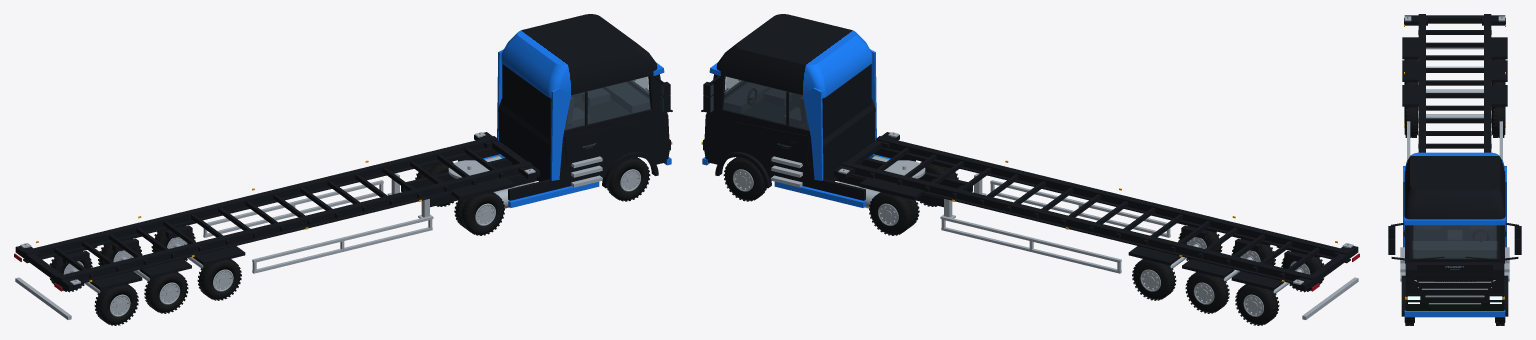
File: T01-truck.glb
3 views of the same model, side by side, from view 1: azimuth 30°, elevation 25°; view 2: azimuth 150°, elevation 25°; view 3: azimuth 270°, elevation 25° (orthographic). The views are drawn at different scales.
Parts seen in each view (by area): view 1: rounded_high_roof, contoured_closed_lower_cab, trailer_Ibeam_flange_1_0.195, trailer_Ibeam_flange_-1_0.195, deep_side_glass_1, trailer_Ibeam_web_1, trailer_Ibeam_web_-1, rear_cab_wall, sculpted_door_panel_1, trailer_Ibeam_flange_1_-0.015, blue_rear_door_pillar_1, trailer_Ibeam_flange_-1_-0.015 (+21 smaller); view 2: rounded_high_roof, contoured_closed_lower_cab, trailer_Ibeam_flange_-1_0.195, trailer_Ibeam_flange_1_0.195, deep_side_glass_-1, trailer_Ibeam_web_-1, trailer_Ibeam_web_1, rear_cab_wall, sculpted_door_panel_-1, trailer_Ibeam_flange_-1_-0.015, blue_rear_door_pillar_-1, trailer_Ibeam_flange_1_-0.015 (+21 smaller); view 3: rounded_high_roof, continuous_front_glass, contoured_closed_lower_cab, sculpted_grille_aperture, dashboard, trailer_Ibeam_flange_-1_0.195, trailer_Ibeam_flange_1_0.195, front_label_panel, blue_roof_visor, blue_front_bumper, trailer_end_bolster_-11.185, trailer_fender_-1_2 (+44 smaller).
Boxes of the visible parts, x1,y1,x2,y2 form: rounded_high_roof: (501,14,657,98); contoured_closed_lower_cab: (498,82,669,181); trailer_Ibeam_flange_1_0.195: (57,161,532,280); trailer_Ibeam_flange_-1_0.195: (23,136,497,254); deep_side_glass_1: (565,77,650,129); trailer_Ibeam_web_1: (59,169,520,285); trailer_Ibeam_web_-1: (24,143,485,260); rear_cab_wall: (502,64,551,139); sculpted_door_panel_1: (565,121,640,165); trailer_Ibeam_flange_1_-0.015: (58,173,523,288); blue_rear_door_pillar_1: (550,87,570,180); trailer_Ibeam_flange_-1_-0.015: (23,147,493,263); rounded_high_roof: (716,14,872,98); contoured_closed_lower_cab: (704,82,875,181); trailer_Ibeam_flange_-1_0.195: (841,161,1316,280); trailer_Ibeam_flange_1_0.195: (876,136,1350,254); deep_side_glass_-1: (723,77,808,129); trailer_Ibeam_web_-1: (853,169,1314,285); trailer_Ibeam_web_1: (888,143,1349,260); rear_cab_wall: (822,64,871,139); sculpted_door_panel_-1: (733,121,808,165); trailer_Ibeam_flange_-1_-0.015: (850,173,1315,288); blue_rear_door_pillar_-1: (803,87,823,180); trailer_Ibeam_flange_1_-0.015: (880,147,1350,263); rounded_high_roof: (1404,152,1505,219); continuous_front_glass: (1413,225,1496,258); contoured_closed_lower_cab: (1405,225,1504,310); sculpted_grille_aperture: (1416,273,1493,309); dashboard: (1412,241,1497,257); trailer_Ibeam_flange_-1_0.195: (1484,14,1491,152); trailer_Ibeam_flange_1_0.195: (1418,14,1425,152); front_label_panel: (1417,263,1492,273); blue_roof_visor: (1404,217,1505,225); blue_front_bumper: (1404,310,1505,317); trailer_end_bolster_-11.185: (1404,15,1505,23); trailer_fender_-1_2: (1491,37,1507,59).
Bounding box in the file's own units: 16.05 × 3.75 × 3.23.
11 materials, 2 textured.
